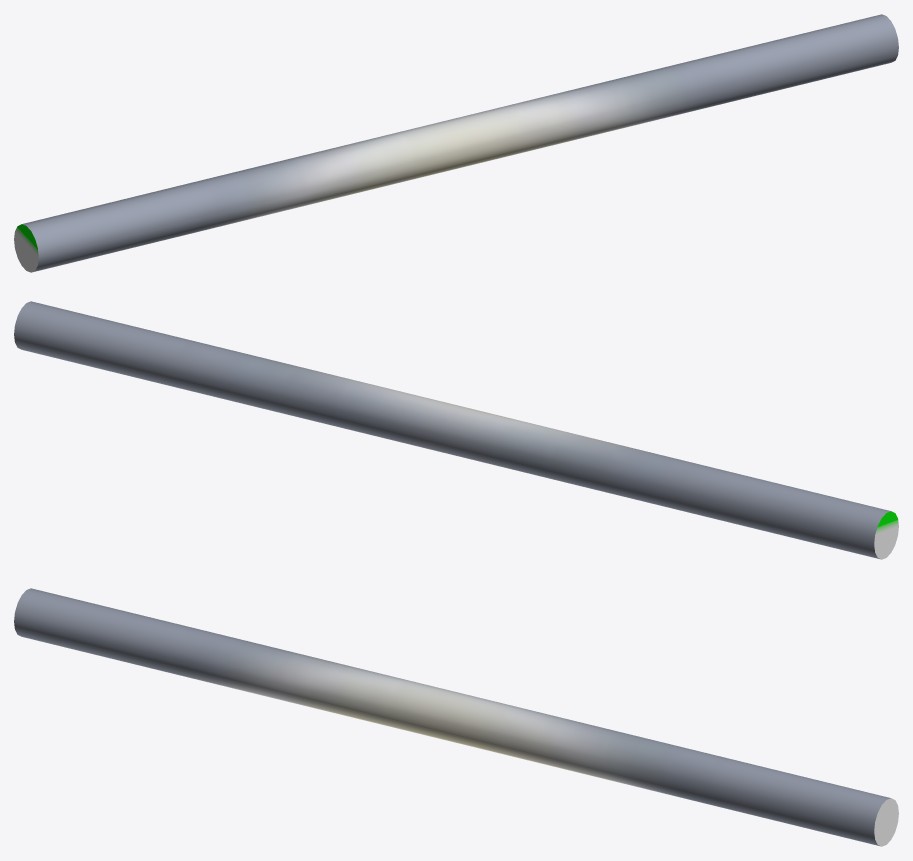
Rendered from zrail2.obj.
3 views of the same model, one above another, from view 1: azimuth 30°, elevation 25°; view 2: azimuth 150°, elevation 25°; view 3: azimuth 330°, elevation 25° (orthographic).
Visible parts, largest first — view 1: cylinder1_mtrl/chrome, cylinder1_mtrl/invisible; view 2: cylinder1_mtrl/chrome, cylinder1_mtrl/invisible; view 3: cylinder1_mtrl/chrome, cylinder1_mtrl/invisible.
Part boxes in pixels (<box>): cylinder1_mtrl/chrome: <box>22,14,898,272</box>; cylinder1_mtrl/invisible: <box>14,224,38,272</box>; cylinder1_mtrl/chrome: <box>14,301,890,559</box>; cylinder1_mtrl/invisible: <box>874,511,898,559</box>; cylinder1_mtrl/chrome: <box>14,588,890,846</box>; cylinder1_mtrl/invisible: <box>874,798,898,846</box>.
Size of the model in its own units: 128 by 6.4 by 6.4.
Materials: 2 (2 with a texture image).
